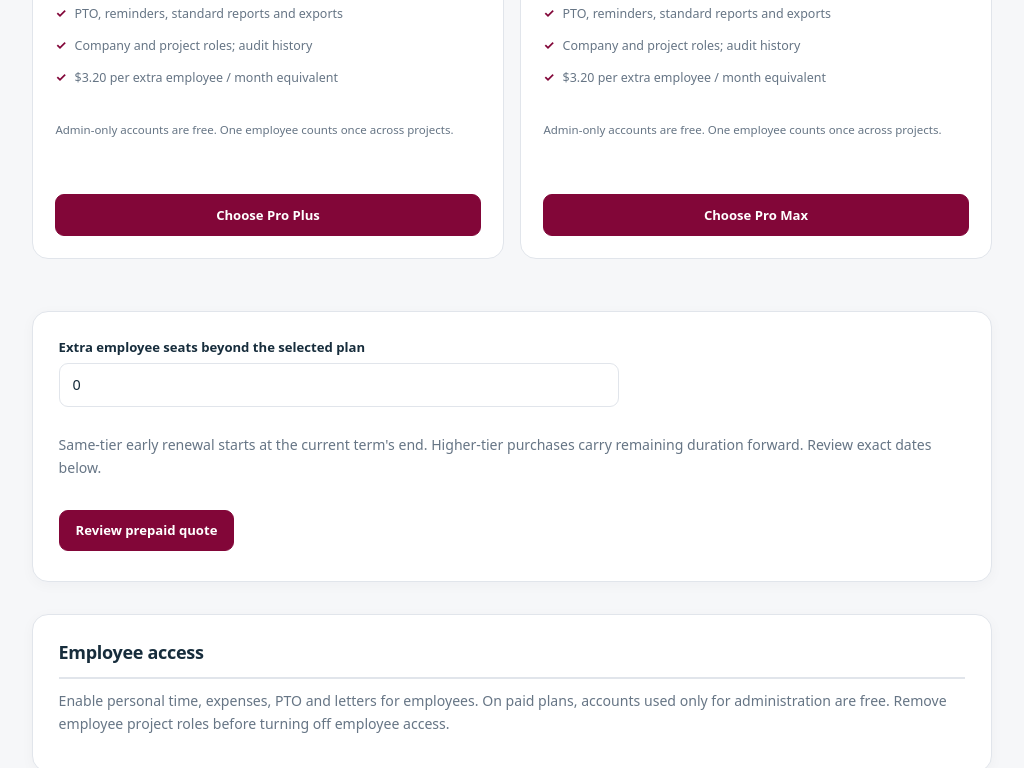
Test: requests an explicit quote with only company-scoped selections and navigates to review when checkout is unavailable
(page scrolled)
Replace the text in the number field labelled "Extra employee seats beyond the selected plan" with "5" at (339, 385), box top-left (59, 363), bottom-right (619, 407)
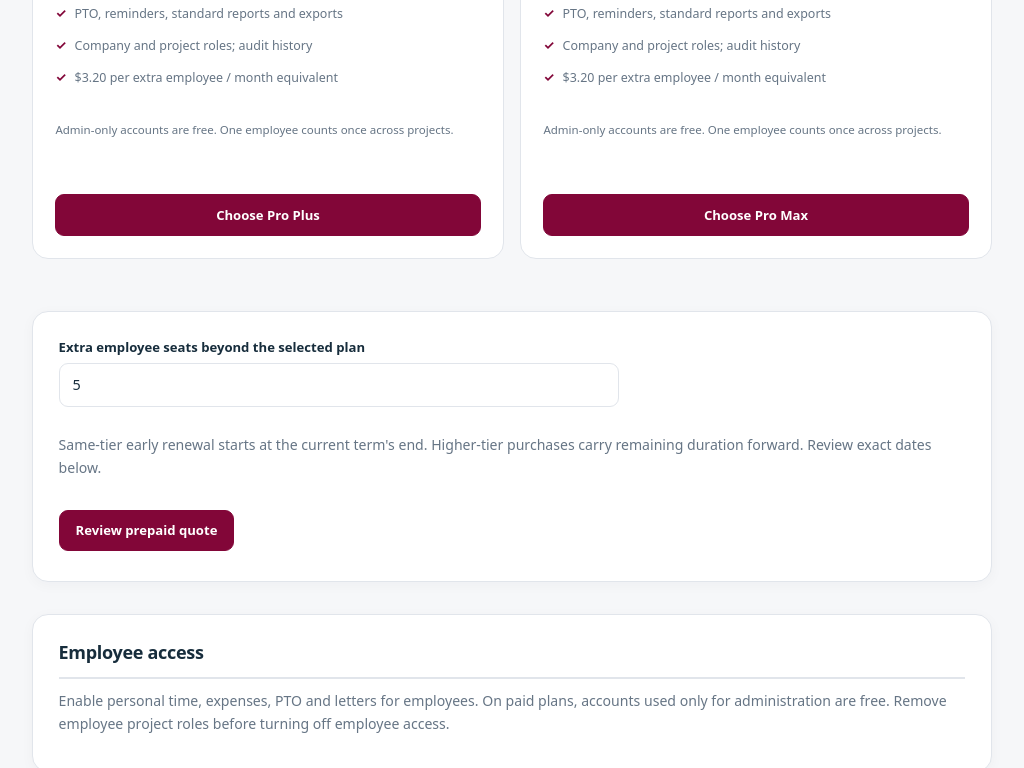
Click the button "Review prepaid quote" at (146, 531), box top-left (59, 510), bottom-right (234, 551)
(page scrolled)
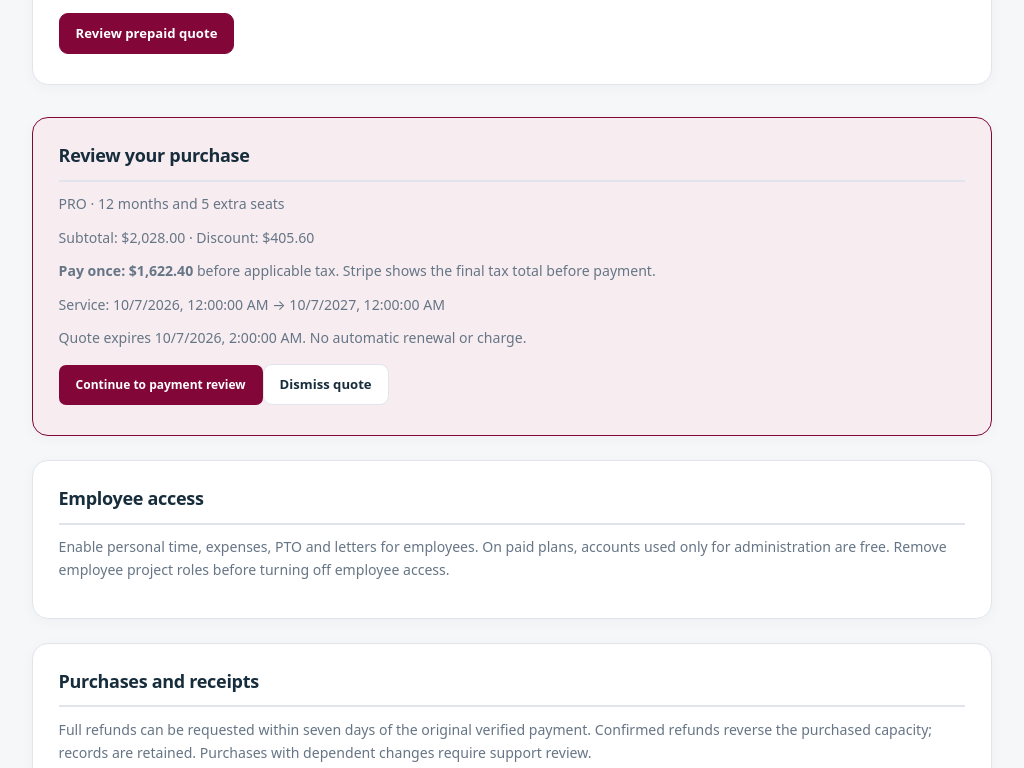
Check: the text "Pay once: $1,622.40" is shown, box top-left (59, 261), bottom-right (193, 280)
